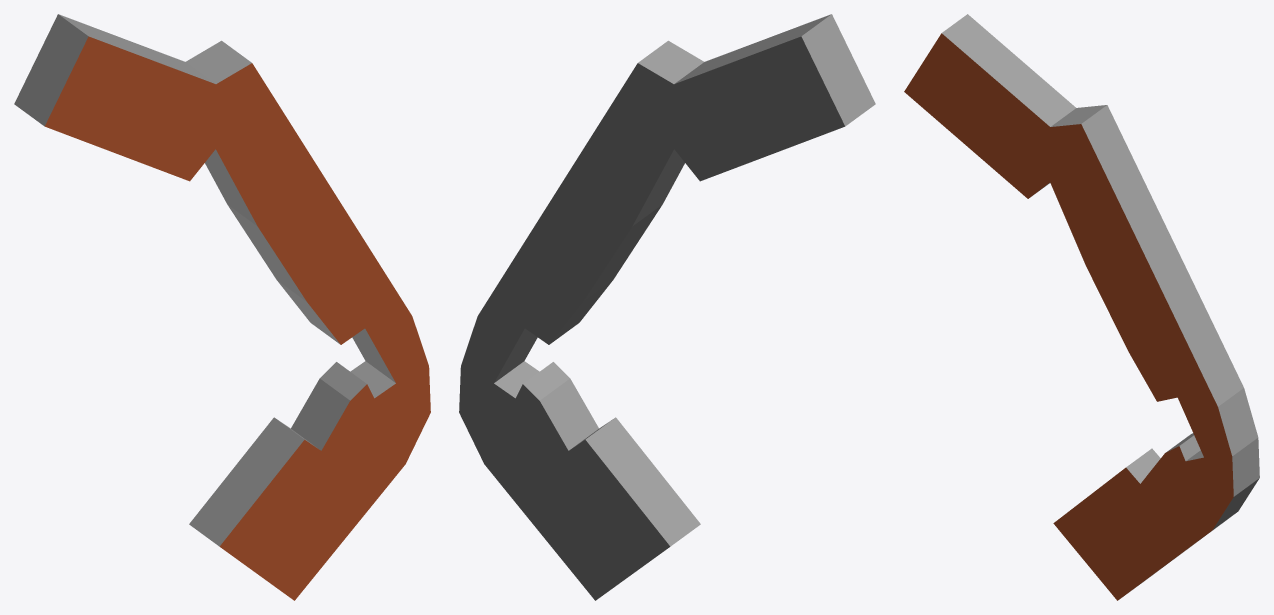
Rendered from construction_3878_assumed_A_Casa_h6m.obj.
The picture shows the model from 3 angles, left to right: view 1: azimuth 30°, elevation 25°; view 2: azimuth 150°, elevation 25°; view 3: azimuth 330°, elevation 25°; orthographic projection. The views are drawn at different scales.
Visible parts, largest first — view 1: construction_3878_assumed_A_Casa; view 2: construction_3878_assumed_A_Casa; view 3: construction_3878_assumed_A_Casa.
Part boxes in pixels (<box>): construction_3878_assumed_A_Casa: <box>14,14,430,600</box>; construction_3878_assumed_A_Casa: <box>459,14,875,600</box>; construction_3878_assumed_A_Casa: <box>904,14,1259,600</box>.
Size of the model in its own units: 43.75 by 66.56 by 6.
